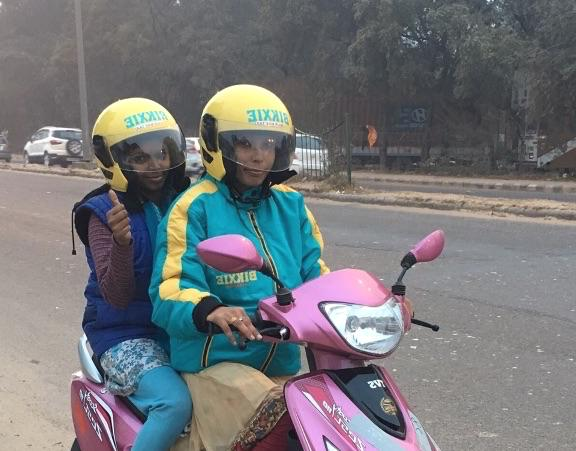With Helmet: (196, 77, 301, 189)
